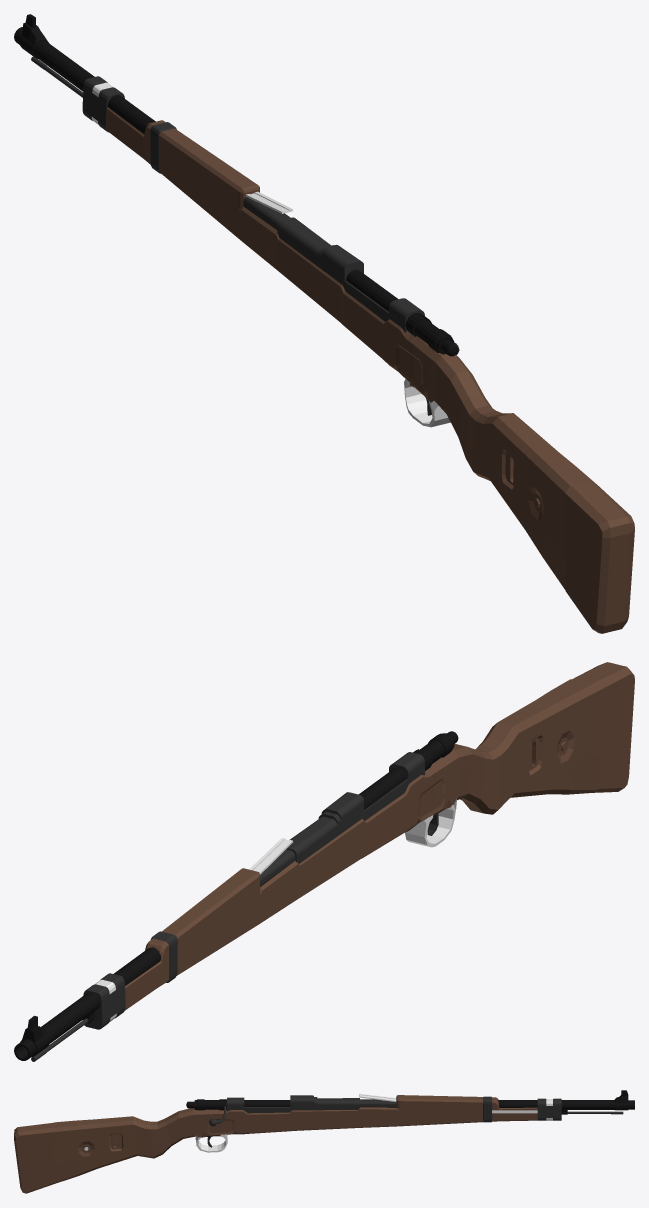
File: Kar98K.fbx
The picture shows the model from 3 angles, top to bottom: view 1: azimuth 30°, elevation 25°; view 2: azimuth 150°, elevation 25°; view 3: azimuth 270°, elevation 25°; orthographic projection. The views are drawn at different scales.
Parts seen in each view (by area): view 1: Kar98K; view 2: Kar98K; view 3: Kar98K.
Part boxes in pixels (x1,y1,x2,y2): Kar98K: [14, 14, 634, 633]; Kar98K: [14, 662, 634, 1061]; Kar98K: [14, 1090, 634, 1193].
Size of the model in its own units: 21.81 by 87.1 by 489.
